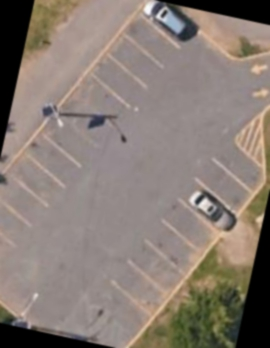parkingspot: (0, 0, 205, 276), (105, 131, 269, 323)
